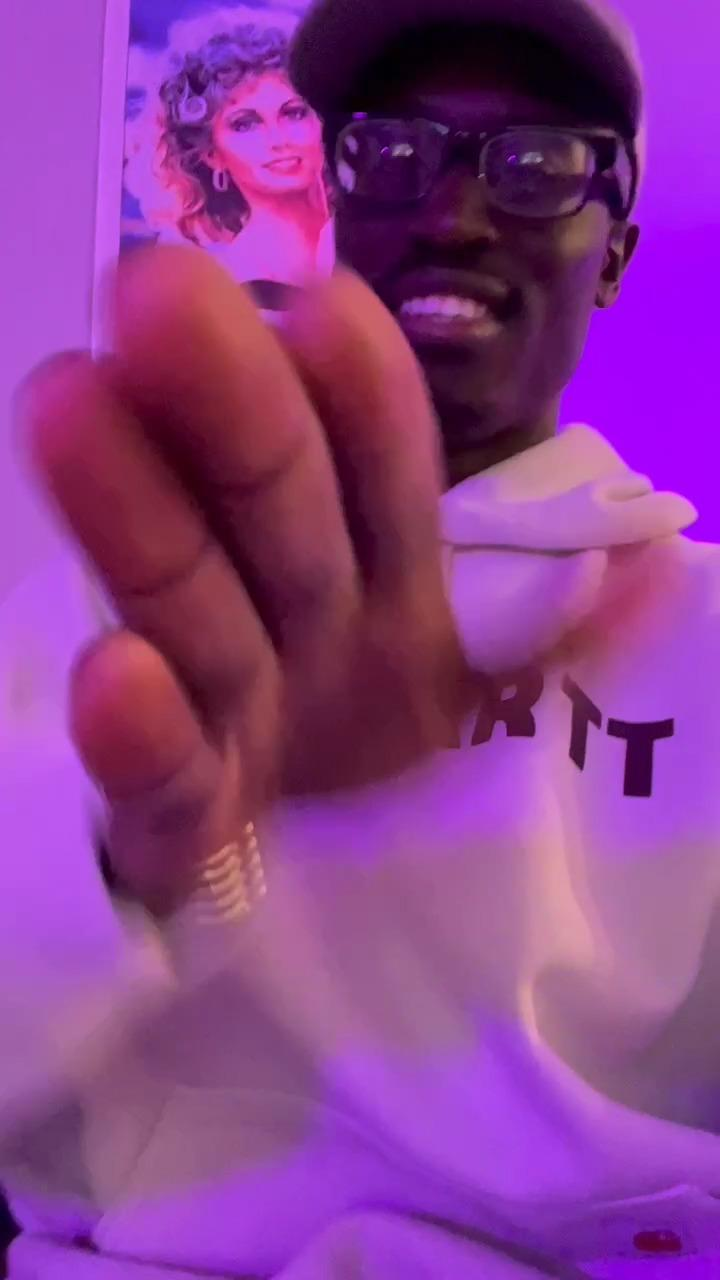Paper: (8, 246, 674, 899)
